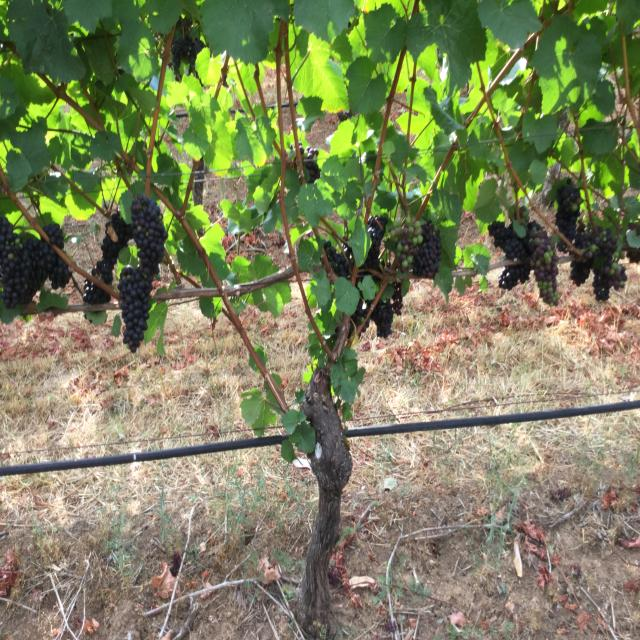grapes: (0, 217, 70, 308), (570, 222, 628, 300), (131, 193, 168, 275), (91, 212, 132, 285), (119, 267, 152, 353), (528, 222, 560, 305), (556, 178, 582, 242), (489, 222, 530, 262), (412, 222, 441, 278), (362, 215, 388, 270), (324, 242, 350, 278), (370, 300, 394, 338), (499, 263, 530, 290), (84, 280, 110, 305), (45, 223, 64, 248)
